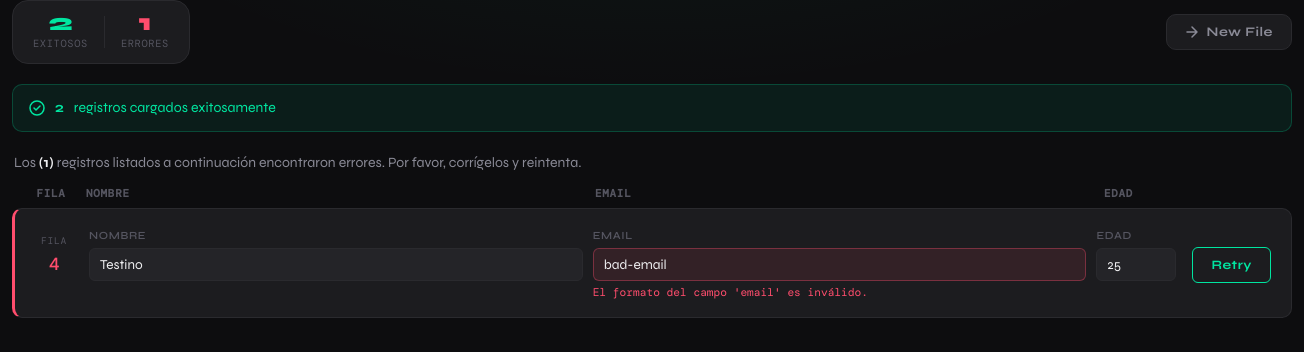
ResultsView › removes error row from list after successful retry
This screenshot has width=1304, height=352.
Note: Fix the invalid email first so validation passes
Replace the text in the field with test id "email-input-4" with "testino@valid.com" at (840, 264), box x1=593 y1=248 x2=1086 y2=281
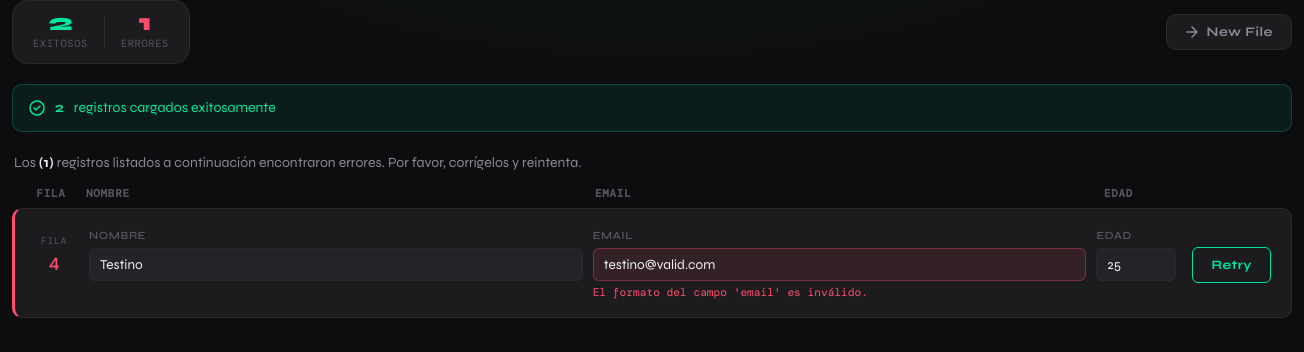
Click the button with test id "retry-btn-4" at (1232, 265), box x1=1192 y1=247 x2=1271 y2=283
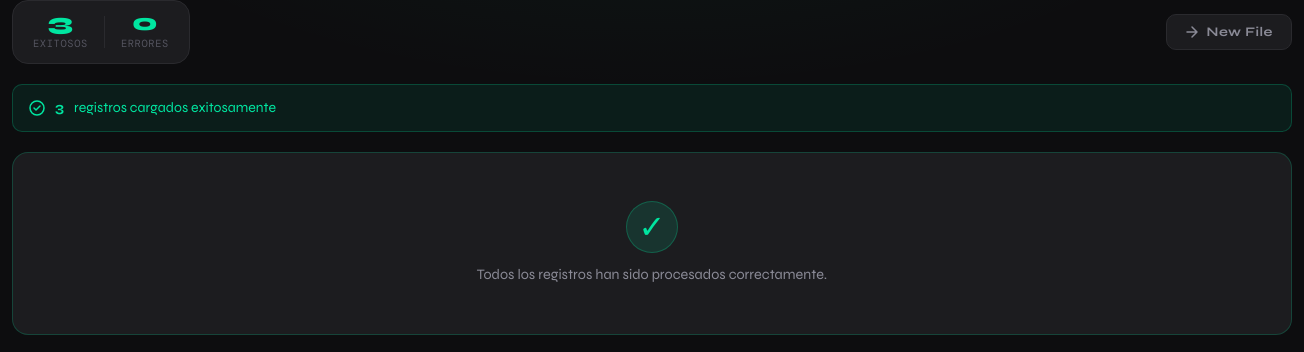
Now the element with test id "error-row-4" is gone
